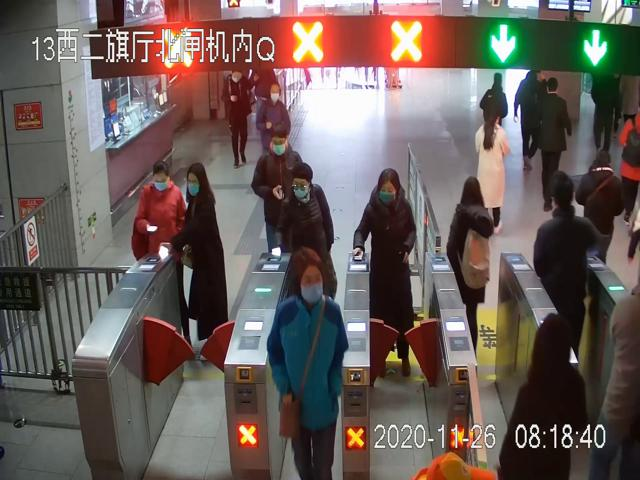person: (266, 250, 347, 480), (353, 166, 417, 377), (130, 160, 191, 354), (176, 164, 229, 360), (275, 162, 339, 304), (447, 175, 493, 371), (249, 122, 304, 252), (475, 108, 508, 237), (222, 67, 251, 168), (256, 81, 291, 158)
